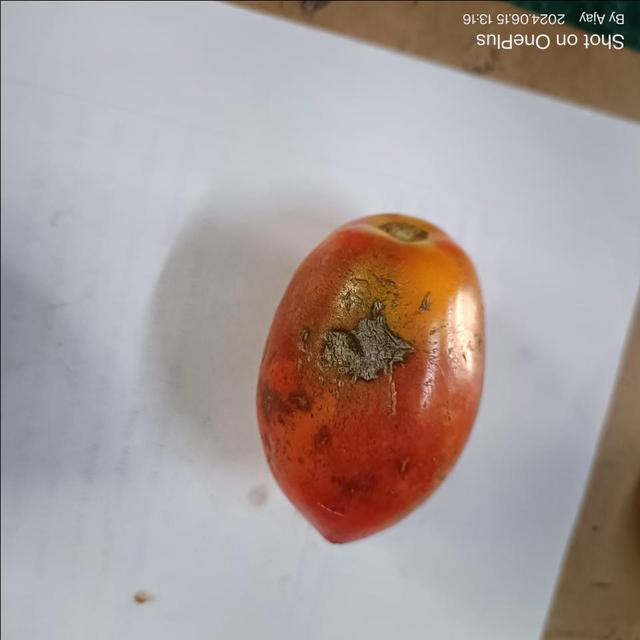Bacterial Spot Fruit: (204, 207, 282, 253)
